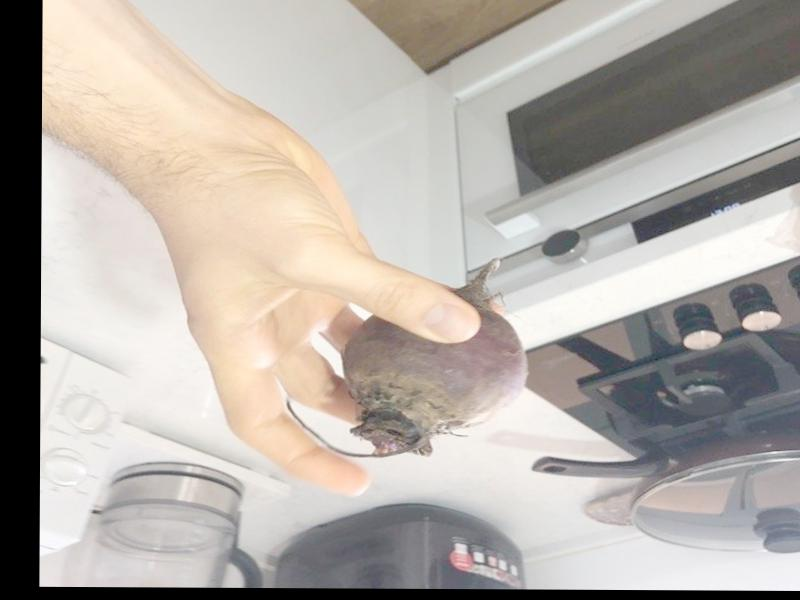Beet: (289, 257, 526, 457)
